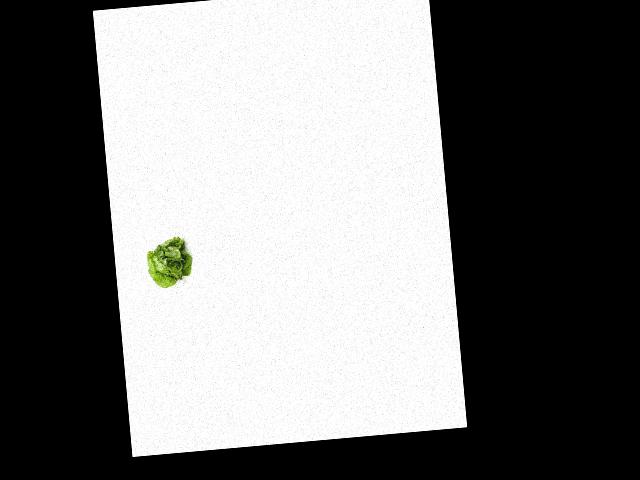lettuce: (141, 233, 197, 290)
